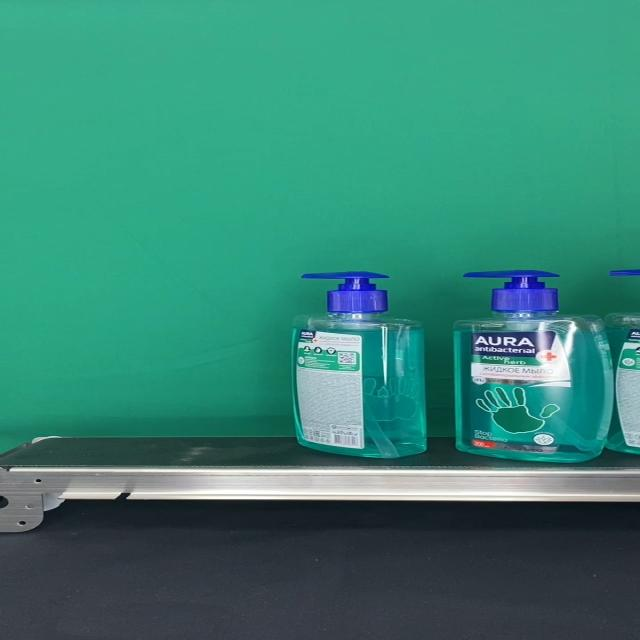Bottle: (454, 269, 614, 463), (289, 270, 426, 458)
Cap: (462, 269, 561, 311), (300, 270, 389, 312)
